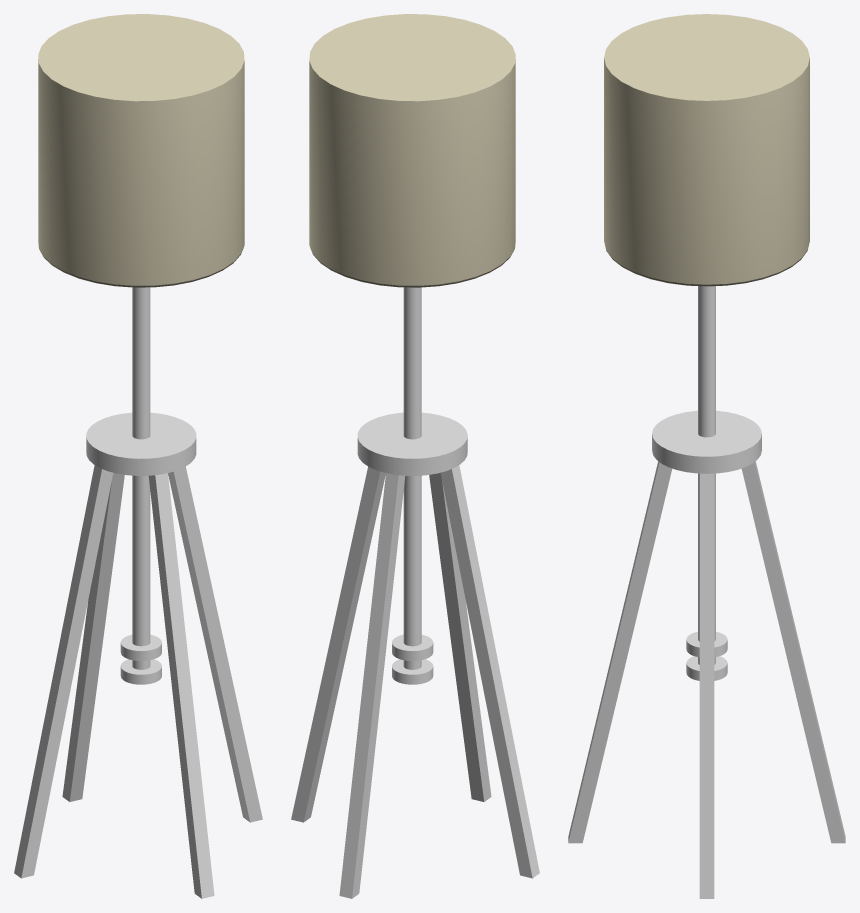
File: Lamp_1.fbx
The picture shows the model from 3 angles, left to right: view 1: azimuth 30°, elevation 25°; view 2: azimuth 150°, elevation 25°; view 3: azimuth 270°, elevation 25°; orthographic projection.
Parts seen in each view (by area): view 1: Cylinder.004, Cube, Cube.001, Cylinder.001, Cylinder, Cylinder.003, Cylinder.002; view 2: Cylinder.004, Cube, Cube.001, Cylinder.001, Cylinder, Cylinder.003, Cylinder.002; view 3: Cylinder.004, Cube.001, Cube, Cylinder, Cylinder.001, Cylinder.003, Cylinder.002.
Part boxes in pixels (x1,y1,x2,y2): Cylinder.004: (38,14,244,287); Cube: (14,465,262,878); Cube.001: (62,472,214,898); Cylinder.001: (132,287,150,669); Cylinder: (86,412,196,475); Cylinder.003: (120,634,161,660); Cylinder.002: (120,659,161,684); Cylinder.004: (309,14,515,287); Cube: (291,465,539,878); Cube.001: (339,472,491,898); Cylinder.001: (403,287,421,669); Cylinder: (357,412,467,475); Cylinder.003: (392,634,433,660); Cylinder.002: (392,659,433,684); Cylinder.004: (604,14,809,286); Cube.001: (568,461,845,843); Cube: (699,473,714,898); Cylinder: (652,410,761,473); Cylinder.001: (698,286,715,664); Cylinder.003: (686,631,727,657); Cylinder.002: (686,656,727,680).
Size of the model in its own units: 126 by 393 by 126.
